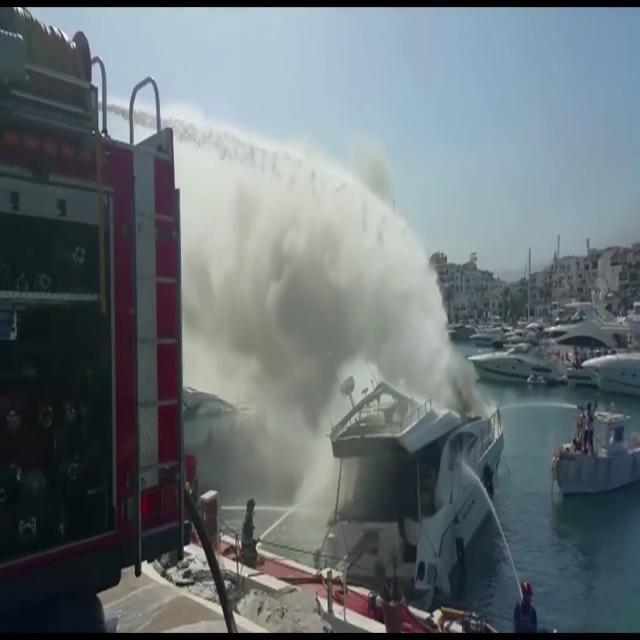Smoke: (188, 125, 492, 475)
